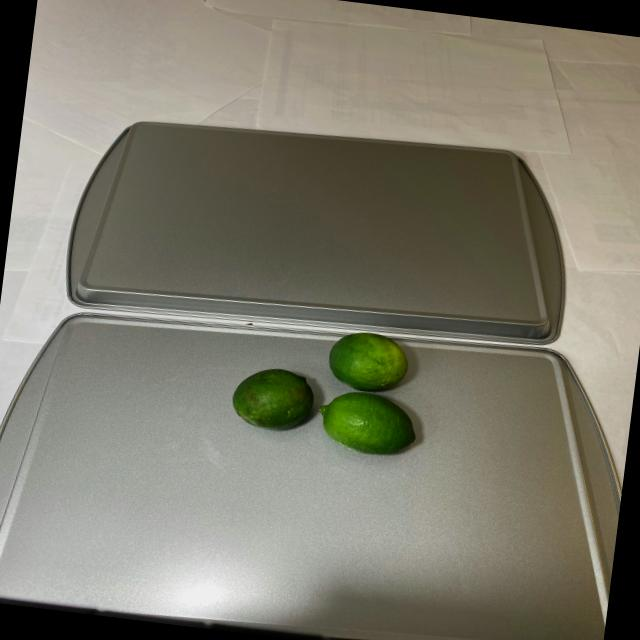lemon: (220, 318, 436, 462)
